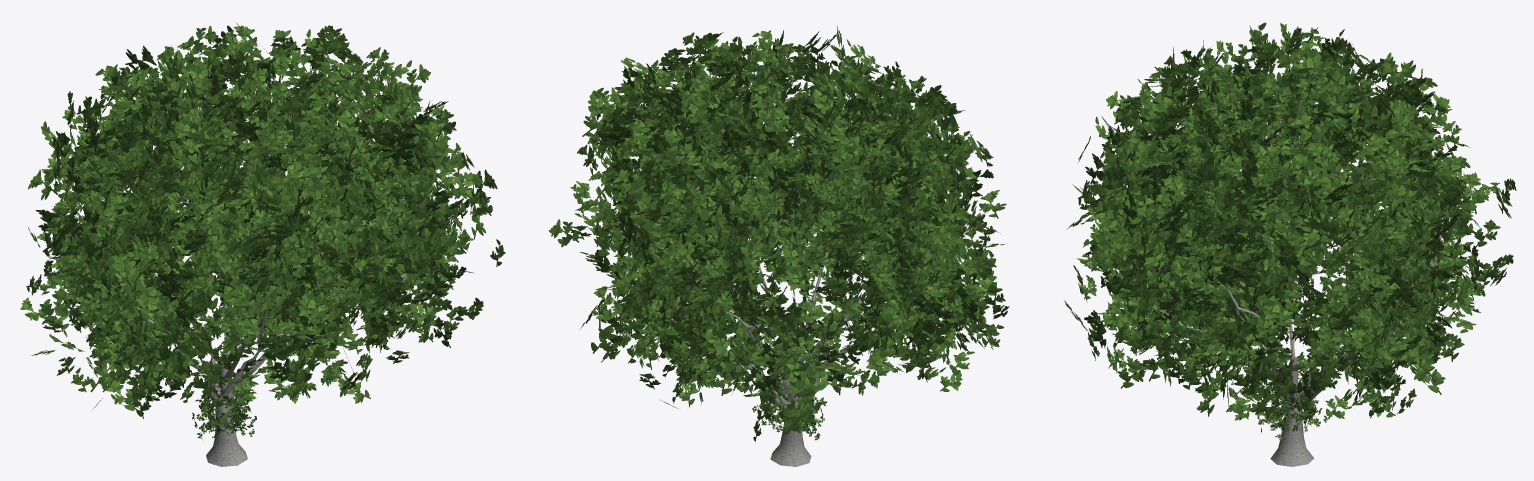
File: beech.glb
The picture shows the model from 3 angles, left to right: view 1: azimuth 30°, elevation 25°; view 2: azimuth 150°, elevation 25°; view 3: azimuth 270°, elevation 25°; orthographic projection. The views are drawn at different scales.
Parts seen in each view (by area): view 1: beech_v2_LOD0, beech_v1_LOD0, beech_v0_LOD0; view 2: beech_v2_LOD0, beech_v1_LOD0, beech_v0_LOD0; view 3: beech_v2_LOD0, beech_v1_LOD0, beech_v0_LOD0.
Part boxes in pixels (left/top/right/bottom): beech_v2_LOD0: left=20, top=23, right=505, bottom=466; beech_v1_LOD0: left=26, top=76, right=431, bottom=416; beech_v0_LOD0: left=192, top=370, right=256, bottom=439; beech_v2_LOD0: left=549, top=26, right=1009, bottom=466; beech_v1_LOD0: left=605, top=84, right=991, bottom=408; beech_v0_LOD0: left=752, top=375, right=826, bottom=440; beech_v2_LOD0: left=1064, top=22, right=1516, bottom=466; beech_v1_LOD0: left=1079, top=65, right=1465, bottom=423; beech_v0_LOD0: left=1257, top=369, right=1327, bottom=440.
Size of what is drawn, in the model's own units: 40.46 by 34.76 by 35.38.
2 materials, 2 textured.
